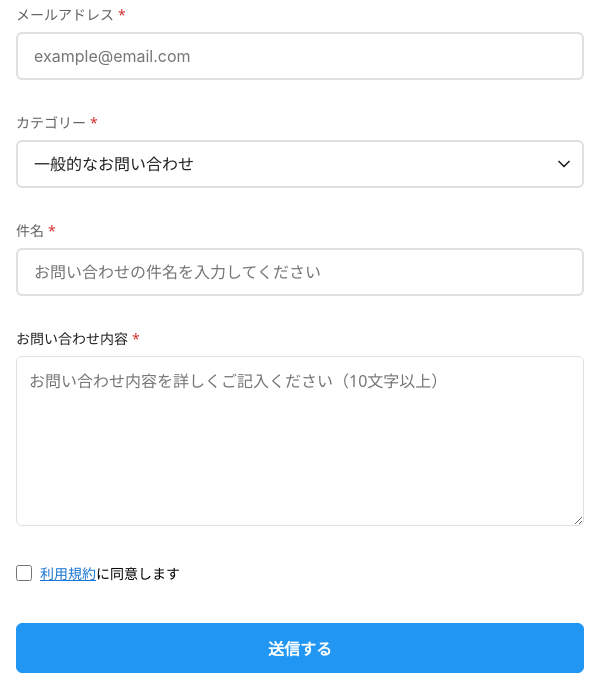
Test: ContactPage Component › should show validation error when message is too short
(page scrolled)
In the text box labelled "お問い合わせ内容*": [300, 441] box [16,356,584,526], type "短い"
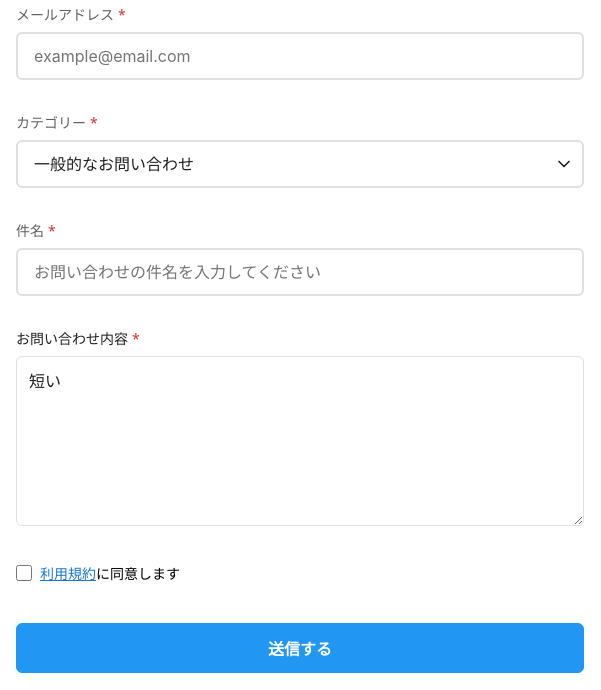
Click the button "送信する": [300, 648] box [16,623,584,673]
(page scrolled)
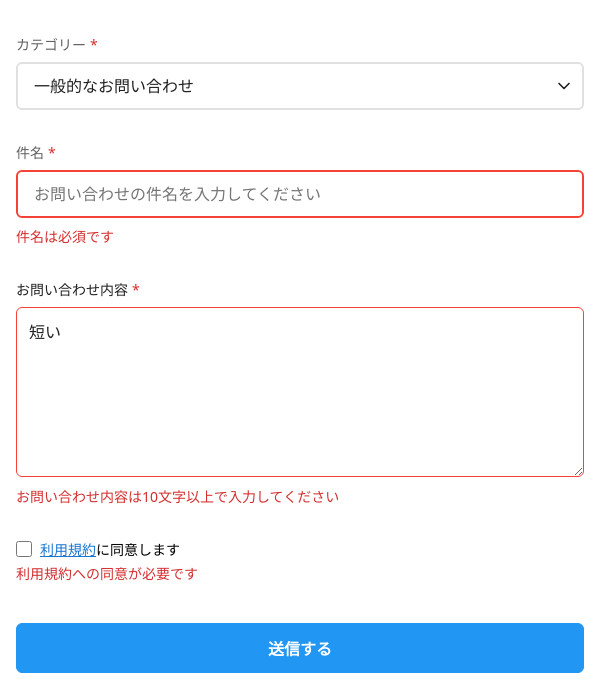
Expected: the text "お問い合わせ内容は10文字以上で入力してください" is shown, [16,487,339,506]
